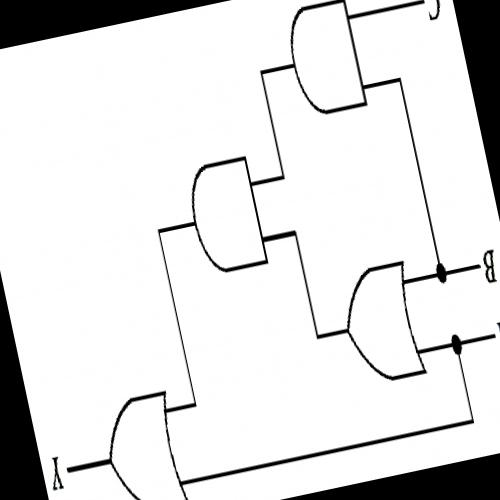and: (176, 144, 274, 286), (272, 0, 373, 129)
or: (328, 248, 433, 396), (90, 376, 193, 500)
